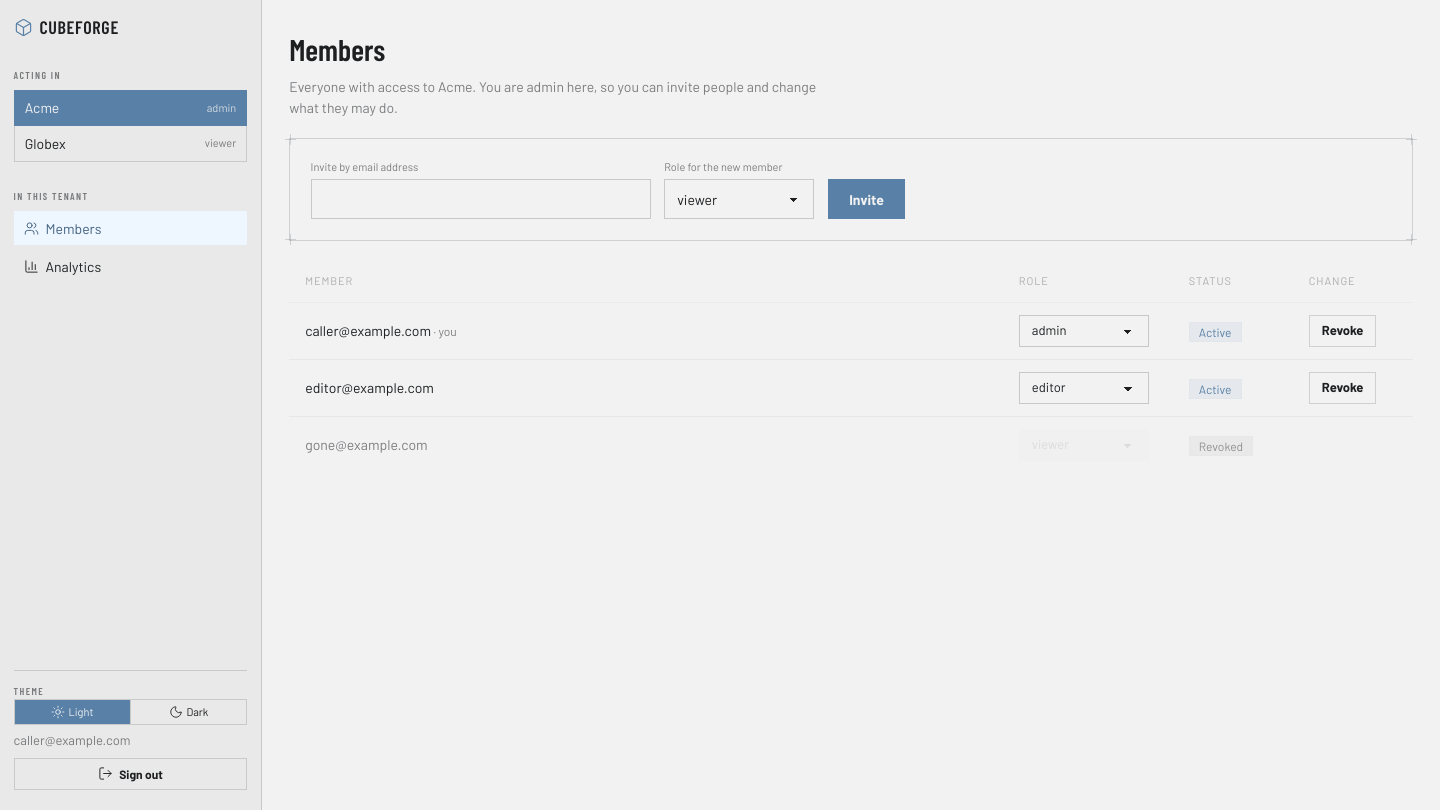
Test: a refusal that names a cause › repeats the backend’s words rather than inventing better ones
Expected: the text "editor@example.com" is shown, left=289, top=360, right=1003, bottom=416
Select "viewer" in the dropdown named "Role of caller@example.com" at (1084, 330), box left=1019, top=314, right=1149, bottom=346
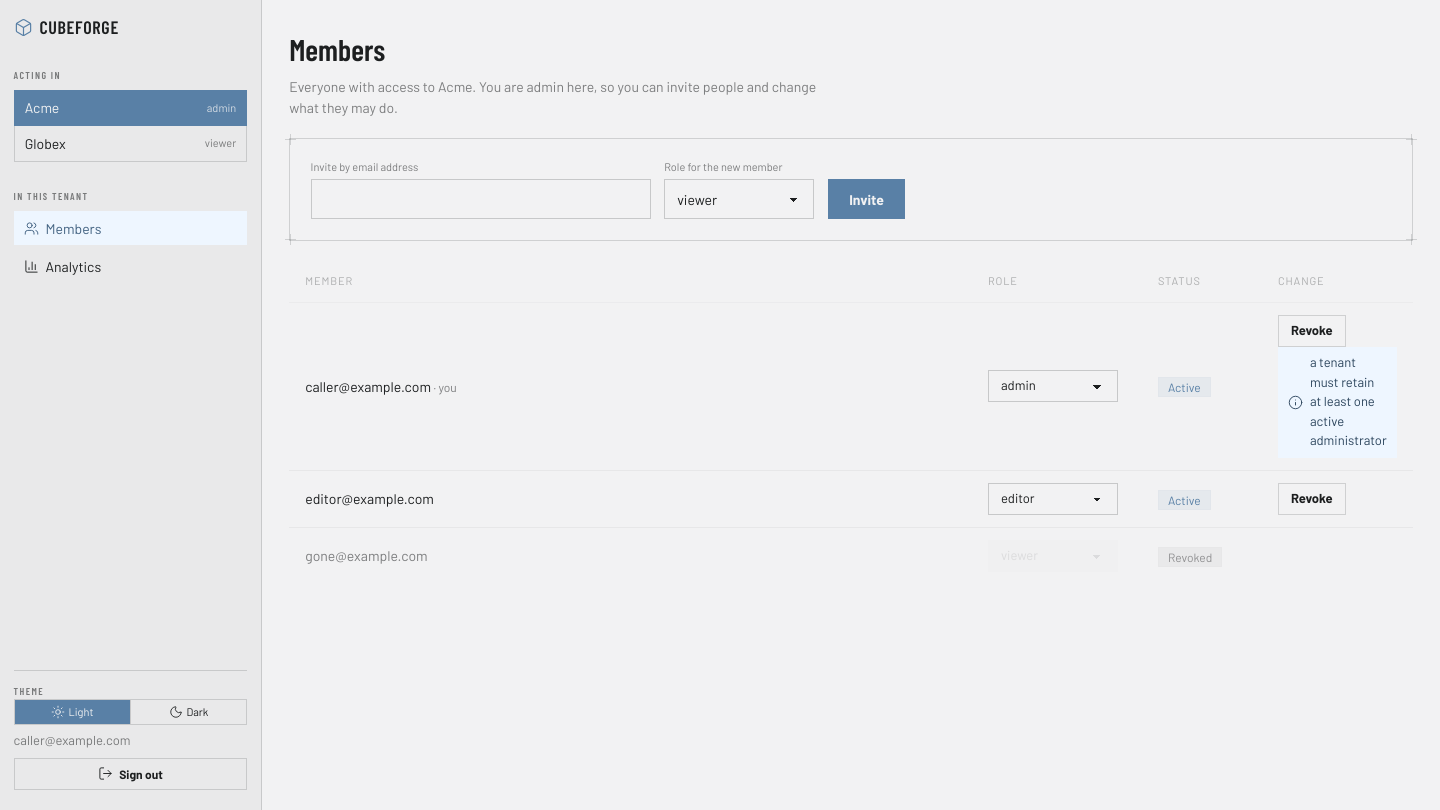
Expected: the text "a tenant must retain at least one active administrator" is shown, left=1310, top=353, right=1387, bottom=451
